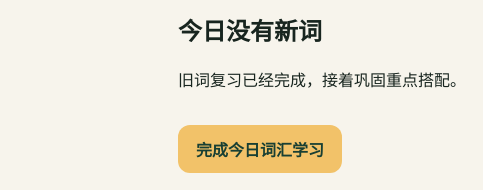
Test case: DailyVocabularySession › completes only the foundation task and does not complete core vocabulary or collocations
Step 1. Click the button "完成今日词汇学习" → (260, 149), box x1=178 y1=125 x2=342 y2=173
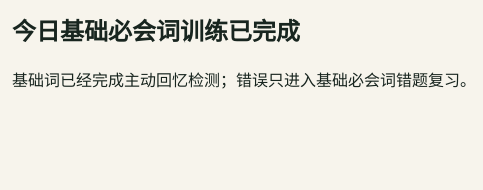
Expected: the heading "今日基础必会词训练已完成" is shown, x1=12 y1=17 x2=300 y2=46
